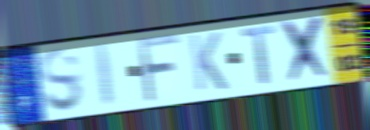F: (136, 33, 182, 105)
I: (94, 41, 118, 108)
K: (187, 30, 230, 93)
S: (37, 47, 86, 115)
T: (239, 23, 277, 86)
X: (280, 14, 333, 86)
